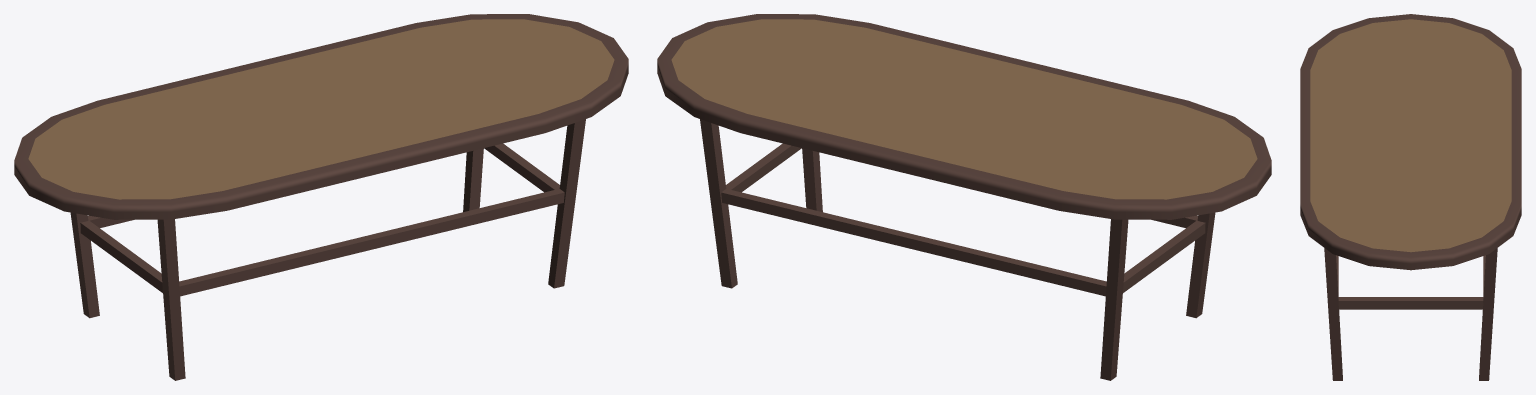
The model's file is table1.gltf.
The picture shows the model from 3 angles, left to right: view 1: azimuth 30°, elevation 25°; view 2: azimuth 150°, elevation 25°; view 3: azimuth 270°, elevation 25°; orthographic projection. The views are drawn at different scales.
Parts seen in each view (by area): view 1: Cylinder, Cube.006; view 2: Cylinder, Cube.006; view 3: Cylinder, Cube.006.
Boxes of the visible parts, x1,y1,x2,y2 form: Cylinder: (14,14,628,219); Cube.006: (70,119,585,380); Cylinder: (657,14,1271,219); Cube.006: (700,119,1215,380); Cylinder: (1300,14,1521,270); Cube.006: (1324,248,1497,380).
Bounding box in the file's own units: 2.67 × 0.8349 × 1.03.
